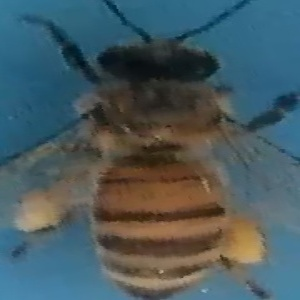bee: (3, 3, 293, 299)
